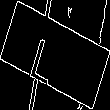L_N: (37, 26, 73, 84)
